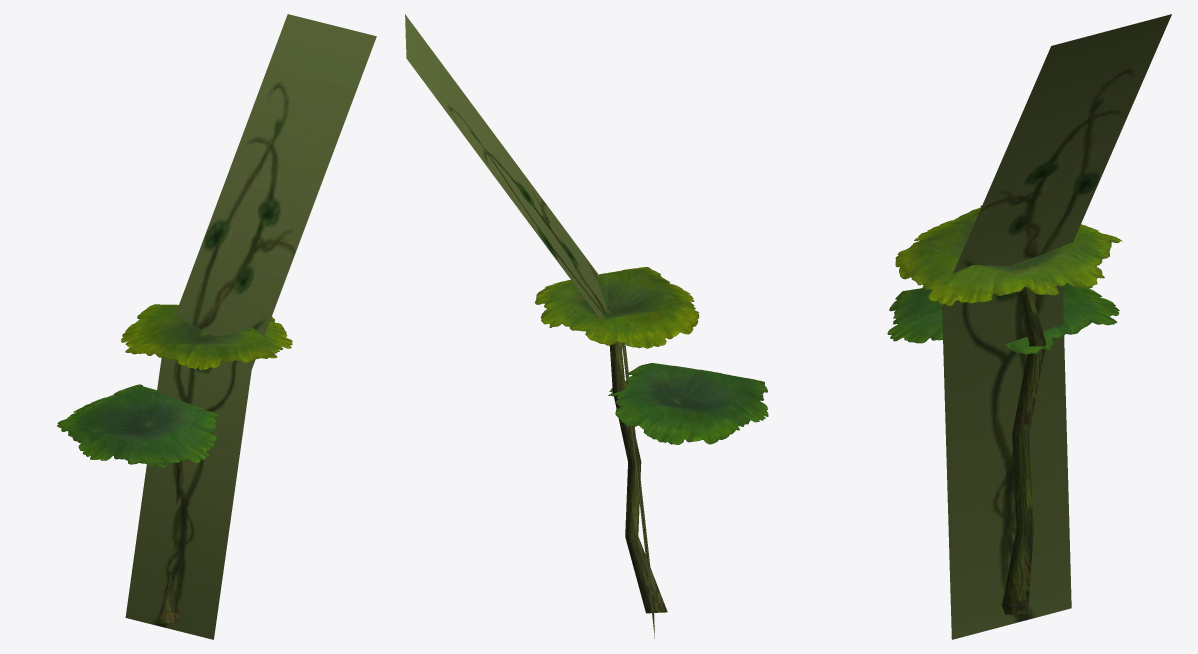
The model's file is environment_Tree_heye_003_c.FBX.
3 renders of one model, left to right at view 1: azimuth 30°, elevation 25°; view 2: azimuth 150°, elevation 25°; view 3: azimuth 270°, elevation 25°, orthographic. The views are drawn at different scales.
Visible parts, largest first — view 1: environment_Tree_heye_003_c, environment_Tree_heye_003_b, environment_Tree_heye_003_a, environment_Tree_heye_003_d; view 2: environment_Tree_heye_003_b, environment_Tree_heye_003_c, environment_Tree_heye_003_a, environment_Tree_heye_003_d; view 3: environment_Tree_heye_003_c, environment_Tree_heye_003_a, environment_Tree_heye_003_d, environment_Tree_heye_003_b.
Boxes of the visible parts, x1,y1,x2,y2 form: environment_Tree_heye_003_c: (125,14,376,639); environment_Tree_heye_003_b: (57,384,219,467); environment_Tree_heye_003_a: (121,304,292,370); environment_Tree_heye_003_d: (157,460,184,623); environment_Tree_heye_003_b: (608,363,768,444); environment_Tree_heye_003_c: (405,14,654,638); environment_Tree_heye_003_a: (535,267,699,348); environment_Tree_heye_003_d: (609,342,667,613); environment_Tree_heye_003_c: (942,14,1171,639); environment_Tree_heye_003_a: (895,205,1122,306); environment_Tree_heye_003_d: (1002,286,1046,614); environment_Tree_heye_003_b: (887,283,1119,354).
Size of the model in its own units: 243 by 353 by 154.
Materials: 4 (4 with a texture image).
